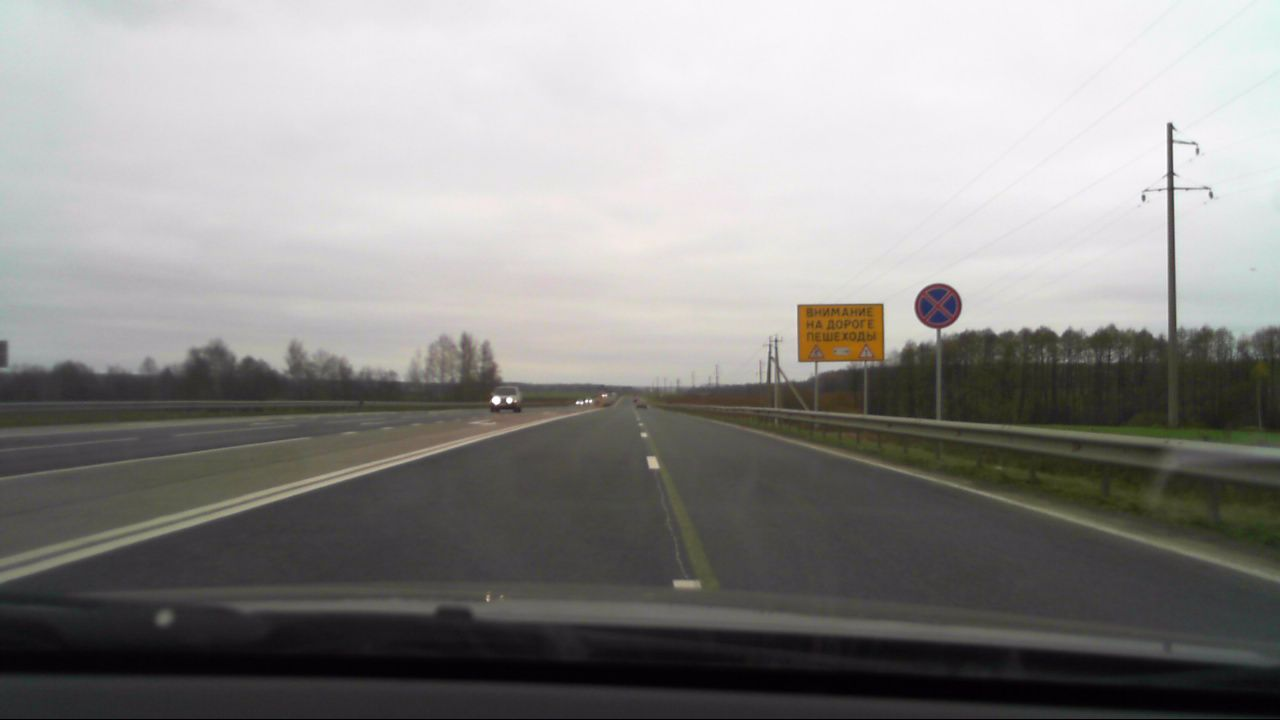No Parking: (912, 280, 962, 332)
